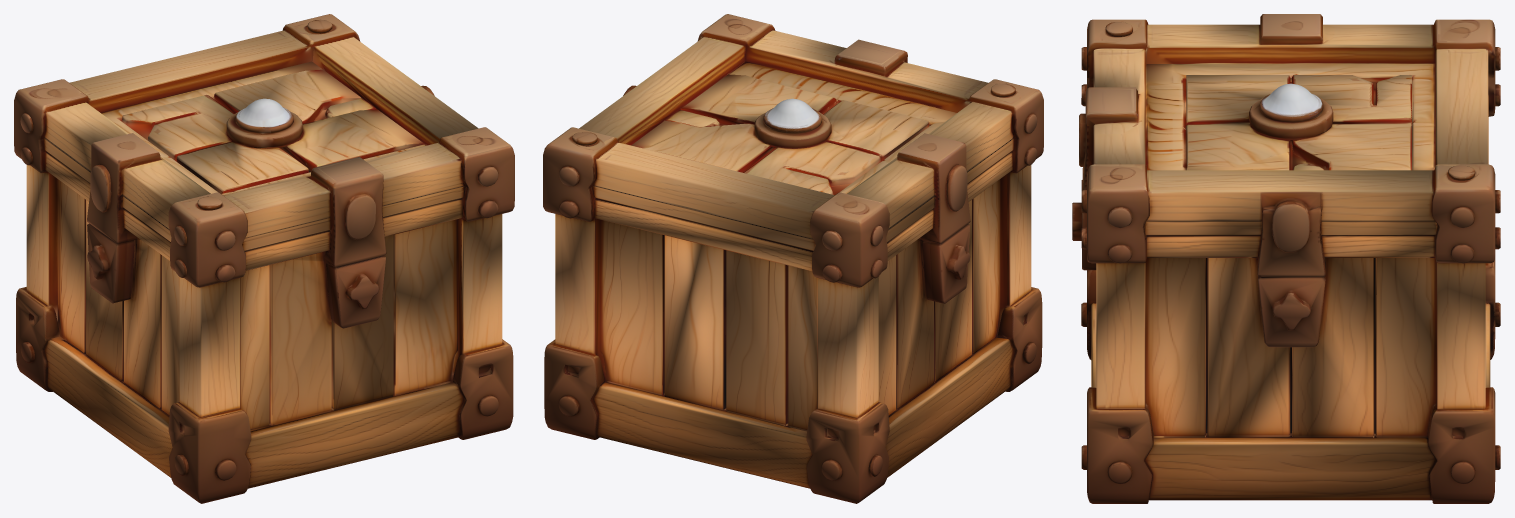
The model's file is item4_chest.fbx.
3 renders of one model, left to right at view 1: azimuth 30°, elevation 25°; view 2: azimuth 150°, elevation 25°; view 3: azimuth 270°, elevation 25°, orthographic. The views are drawn at different scales.
Parts seen in each view (by area): view 1: texture_pbr_v128; view 2: texture_pbr_v128; view 3: texture_pbr_v128.
Part boxes in pixels (x1,y1,x2,y2): texture_pbr_v128: [14, 14, 514, 503]; texture_pbr_v128: [543, 14, 1043, 503]; texture_pbr_v128: [1072, 14, 1500, 503].
Bounding box in the file's own units: 77.27 × 65.84 × 76.01.
1 material, 1 textured.
